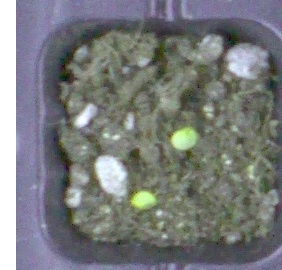chilli seed: (169, 126, 198, 151), (130, 190, 157, 208)
